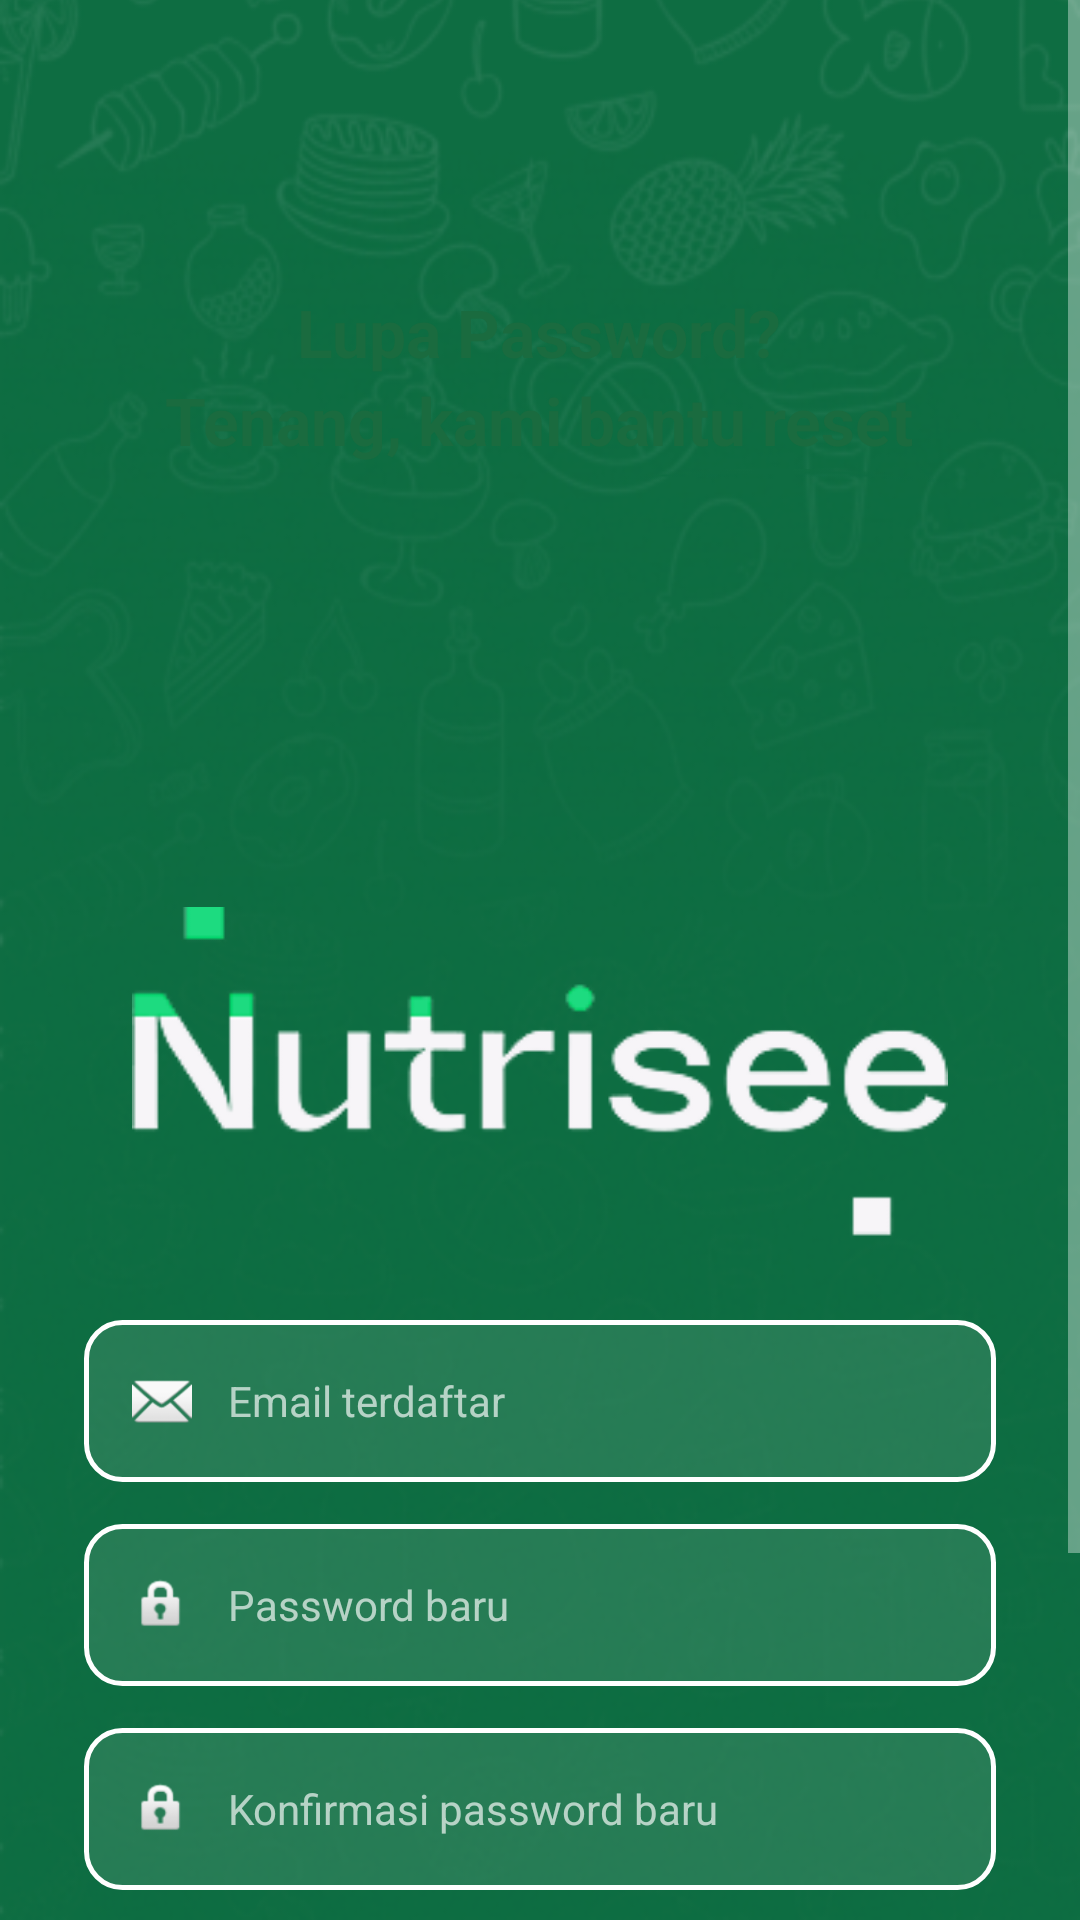

Point at icon controls on the screen. Image size 1080w x 1920h, points as (x=x, y=y).
lock idle: (x=160, y=1603), (x=160, y=1807)
